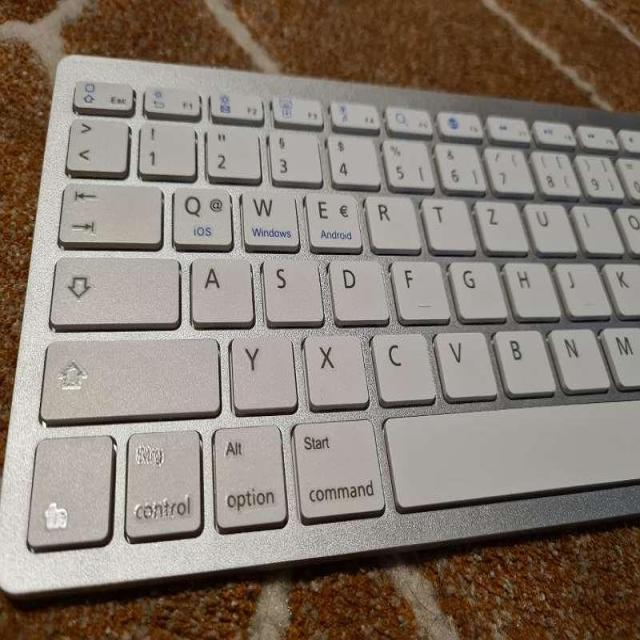0: (617, 156, 637, 201)
1: (136, 118, 196, 175)
2: (202, 123, 261, 179)
3: (266, 128, 322, 182)
4: (327, 131, 380, 185)
5: (380, 135, 433, 188)
6: (434, 140, 484, 190)
7: (485, 144, 534, 192)
8: (532, 147, 579, 193)
9: (575, 152, 624, 197)
a: (186, 253, 255, 325)
alt-left: (208, 424, 288, 529)
b: (493, 324, 555, 395)
c: (369, 328, 436, 405)
d: (326, 254, 389, 323)
e: (303, 188, 363, 250)
f: (389, 256, 450, 322)
g: (446, 256, 507, 319)
h: (502, 256, 560, 317)
i: (573, 201, 622, 252)
j: (554, 257, 611, 315)
k: (602, 257, 638, 313)
keyboard: (2, 46, 637, 604)
less: (64, 117, 128, 174)
m: (602, 321, 638, 385)
n: (549, 325, 609, 390)
o: (615, 203, 639, 252)
q: (169, 183, 235, 250)
r: (363, 191, 422, 250)
s: (258, 254, 324, 325)
shift-left: (35, 335, 225, 420)
shift-lock: (42, 250, 183, 329)
space: (382, 396, 638, 511)
strg-left: (124, 428, 204, 541)
t: (422, 193, 475, 251)
tab: (54, 178, 164, 247)
u: (524, 198, 575, 251)
v: (433, 326, 497, 398)
w: (238, 185, 300, 250)
x: (300, 332, 370, 407)
y: (226, 333, 299, 413)
z: (475, 196, 528, 251)
